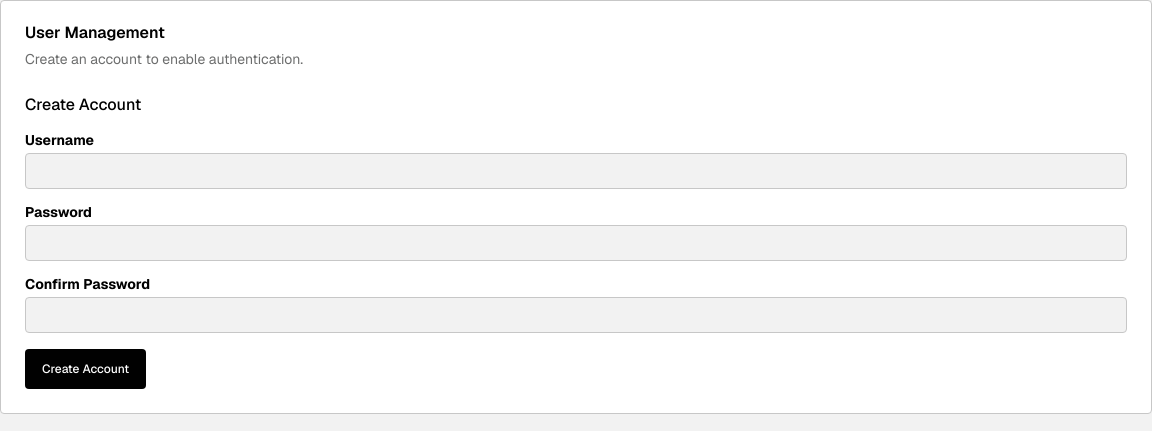
UserManagementSection › no users (setup state) › shows the user info after successful creation
The width and height of the screenshot is (1152, 431).
Type "lawrence" into the field labelled "Username".
click(576, 171); type("lawrence")  # box [25,153,1127,189]
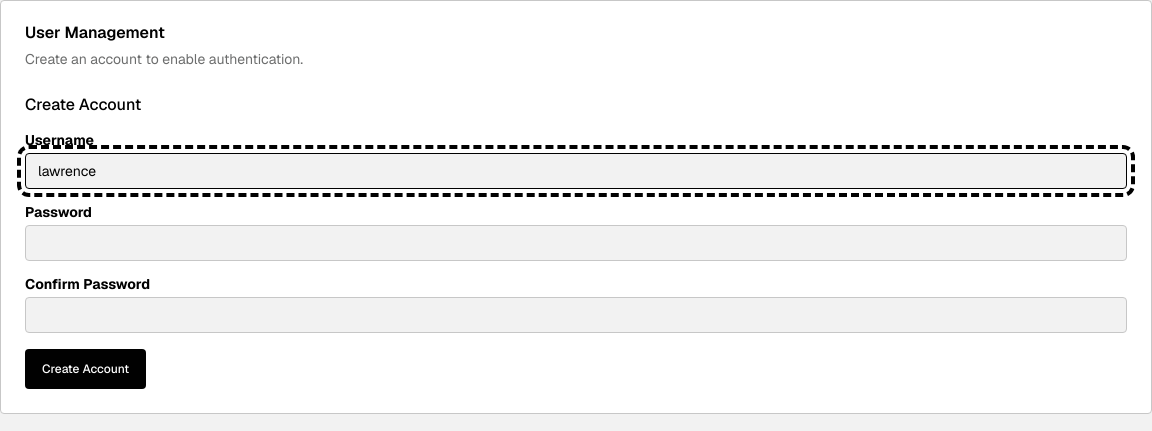
Type "password123" into the password field labelled "Password".
click(576, 243); type("password123")  # box [25,225,1127,261]
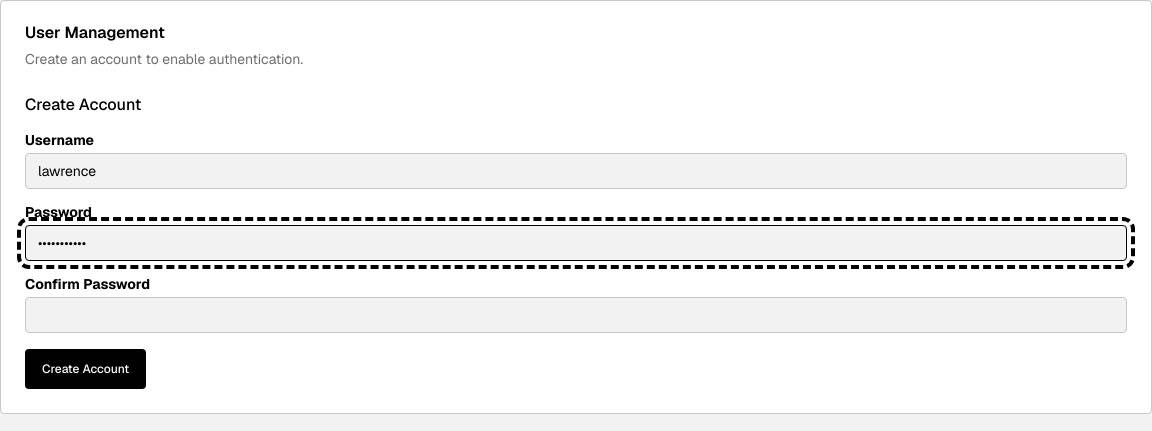
Type "password123" into the password field labelled "Confirm Password".
click(576, 315); type("password123")  # box [25,297,1127,333]
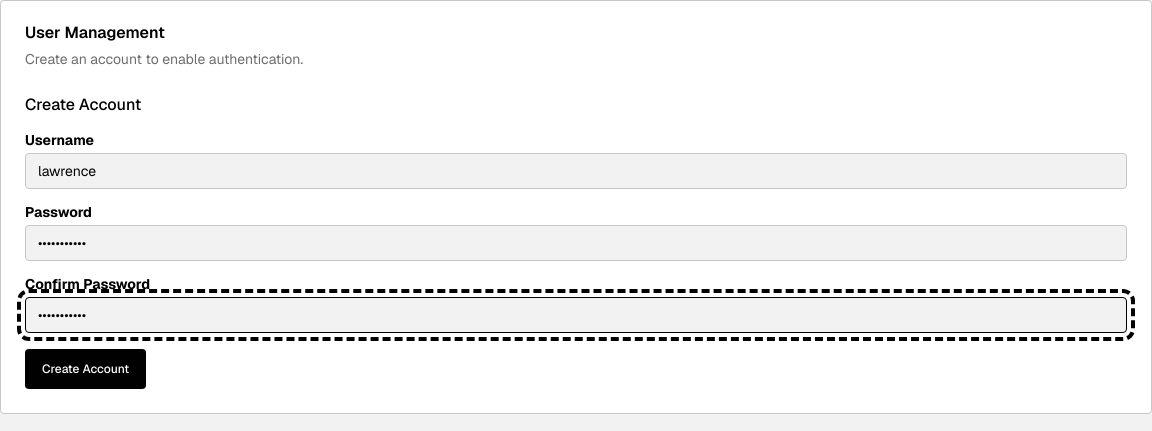
Click the button "Create Account".
click(86, 369)  # box [25,349,146,389]
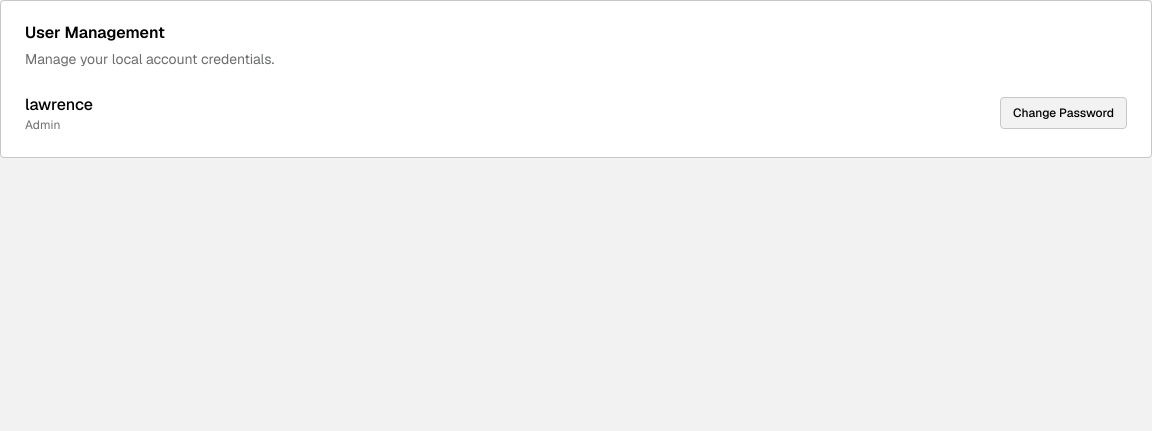
Expected: the text "lawrence" is shown, [25,93,93,117]
Expected: the heading "Create Account" is gone
